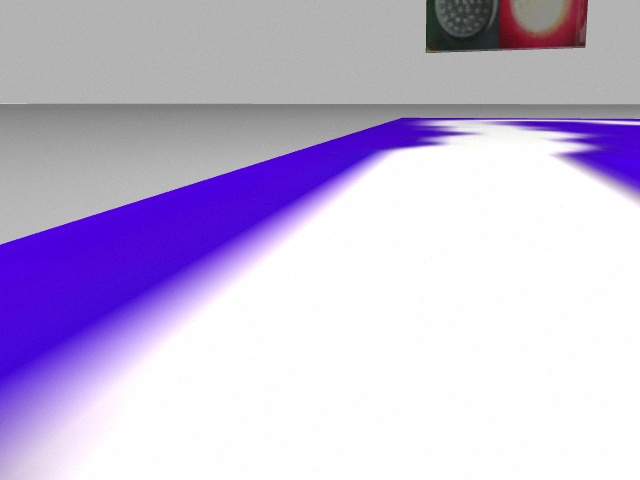red: (506, 1, 577, 42)
